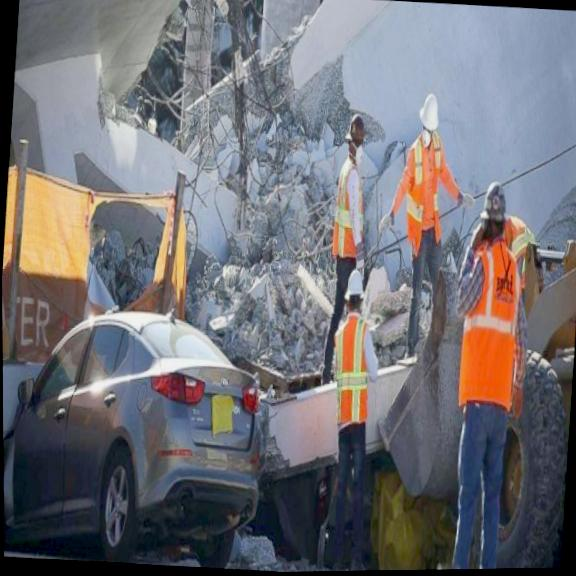safety_vest: (465, 248, 523, 409), (333, 319, 374, 426), (407, 144, 445, 247)
